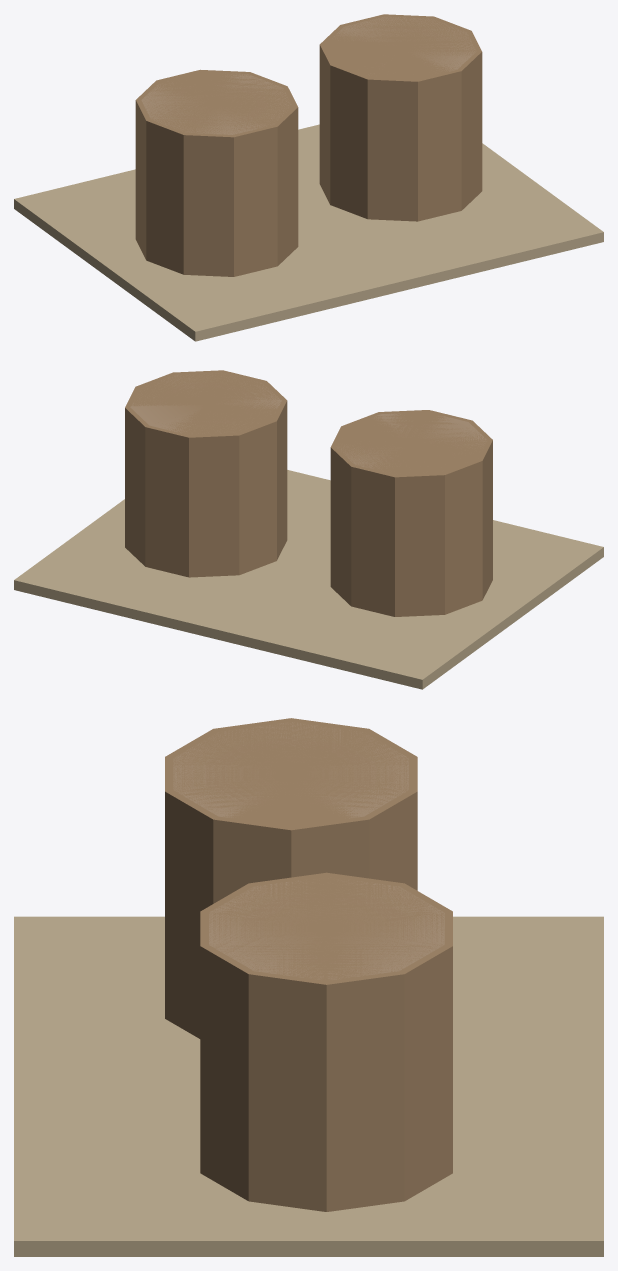
Rendered from cafe_estacion_02_fermentado.glb.
3 renders of one model, top to bottom at view 1: azimuth 30°, elevation 25°; view 2: azimuth 150°, elevation 25°; view 3: azimuth 270°, elevation 25°, orthographic. The views are drawn at different scales.
Parts seen in each view (by area): view 1: model; view 2: model; view 3: model.
Boxes of the visible parts, left/top/right/bottom form: model: left=14, top=14, right=603, bottom=341; model: left=14, top=370, right=603, bottom=689; model: left=14, top=718, right=603, bottom=1256.
Size of the model in its own units: 2.6 by 0.91 by 2.
